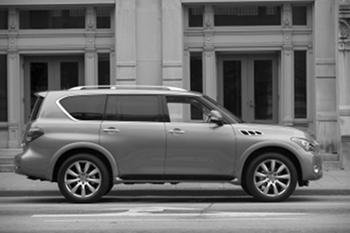car: (15, 87, 324, 202)
